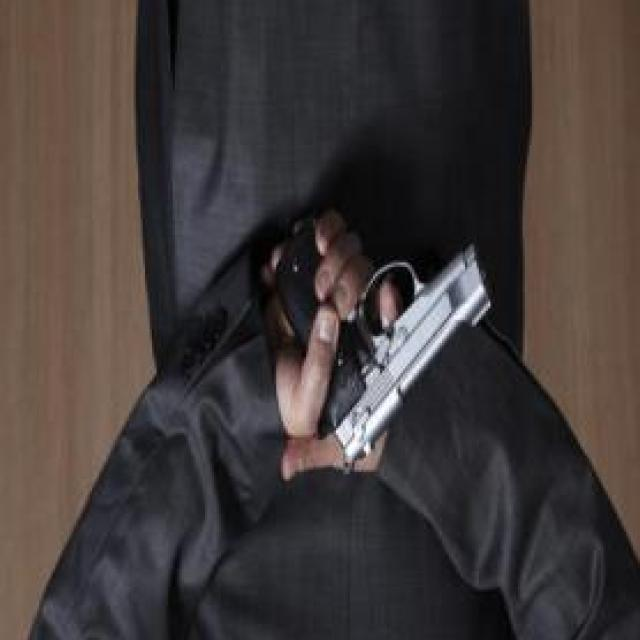pistol: (260, 211, 500, 458)
